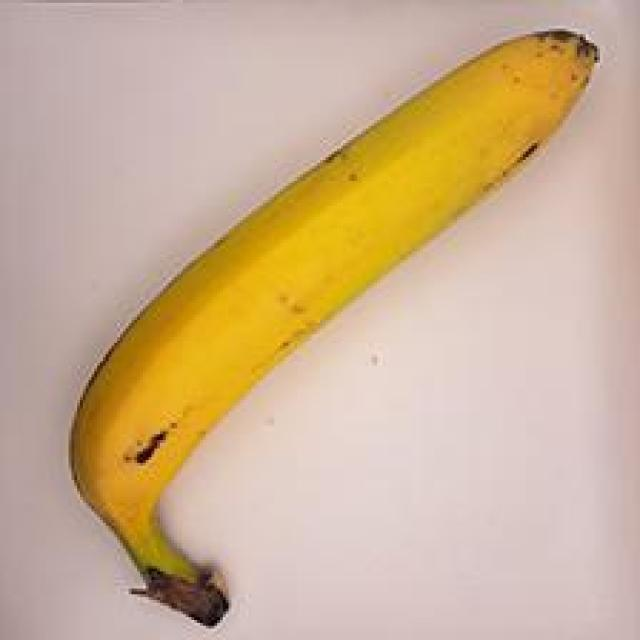Ripe: (23, 16, 604, 627)
